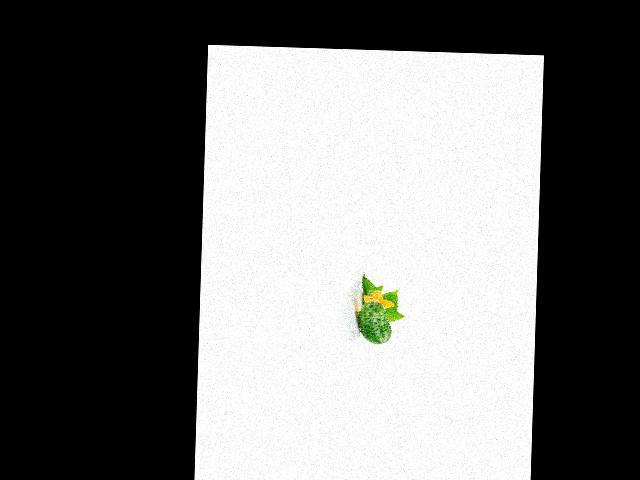cucumber: (357, 302, 392, 344)
